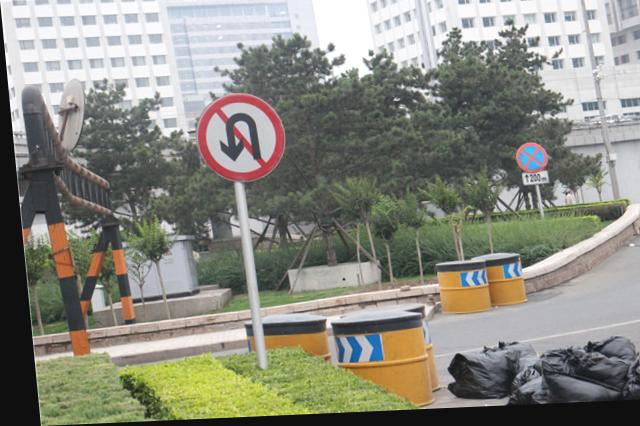not_u_turn_left: (189, 93, 287, 185)
